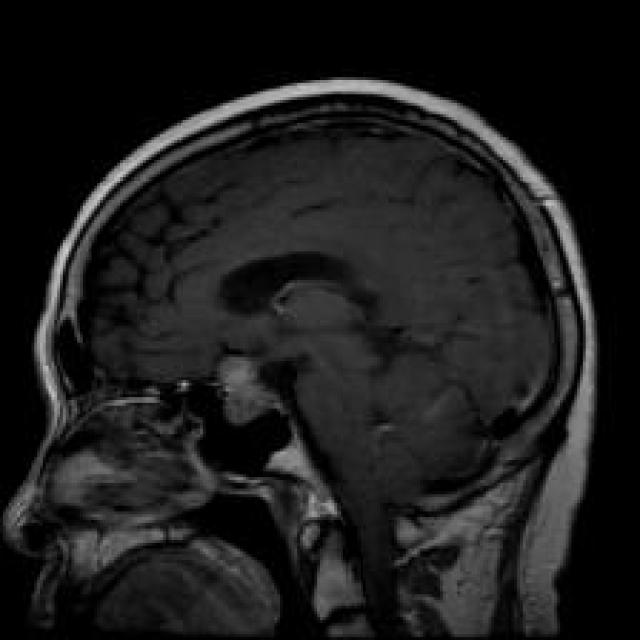pituitary_tumor: (196, 330, 326, 438)
